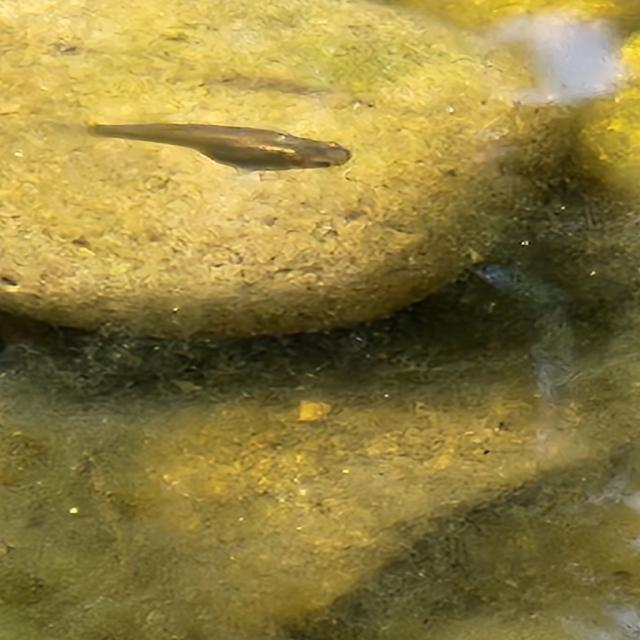Sivrisinek Baligi: (72, 107, 354, 174)
